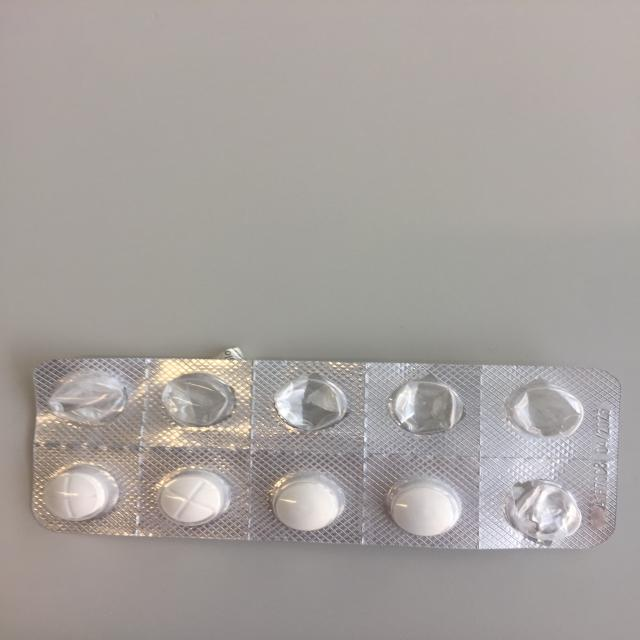Empty: (494, 476, 590, 542), (152, 369, 242, 432), (502, 380, 591, 443), (268, 374, 354, 438), (382, 375, 466, 438), (47, 368, 129, 429)
Pill: (378, 473, 465, 541), (29, 461, 120, 526), (148, 466, 236, 530), (265, 471, 348, 535)
